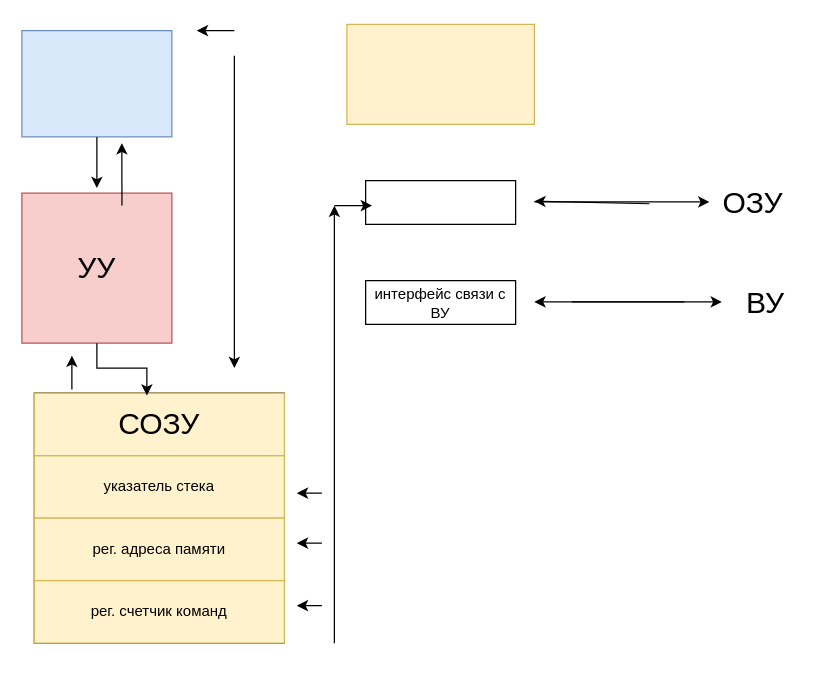
Some shapes in this 831 by 675 pixel diagram are drawn without their labels. The box of each missing label's shape, as (x1, y1, x2, y2) in pixels:
АЛУ: (21, 29, 172, 137)
интерфейс связи с СОЗУ: (364, 179, 516, 224)
КЭШ L 1: (346, 23, 534, 124)
